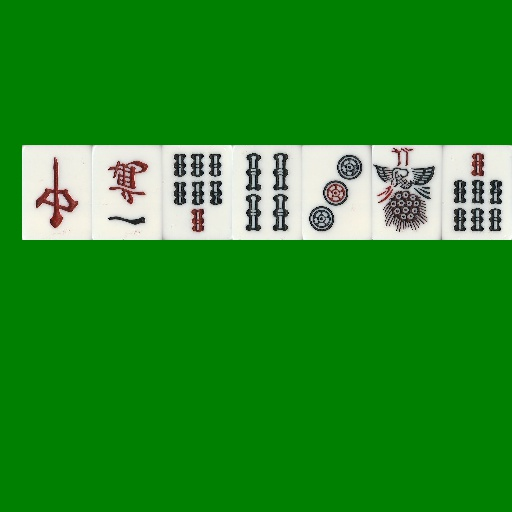1m: (92, 145, 162, 240)
1s: (372, 145, 442, 240)
3p: (302, 145, 372, 240)
4s: (232, 145, 302, 240)
7s: (162, 145, 232, 240), (442, 145, 512, 240)
tyun: (22, 145, 92, 240)
